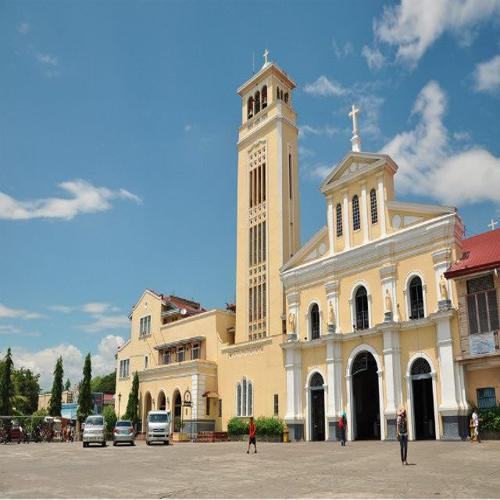Manaoag Church: (227, 38, 466, 443)
